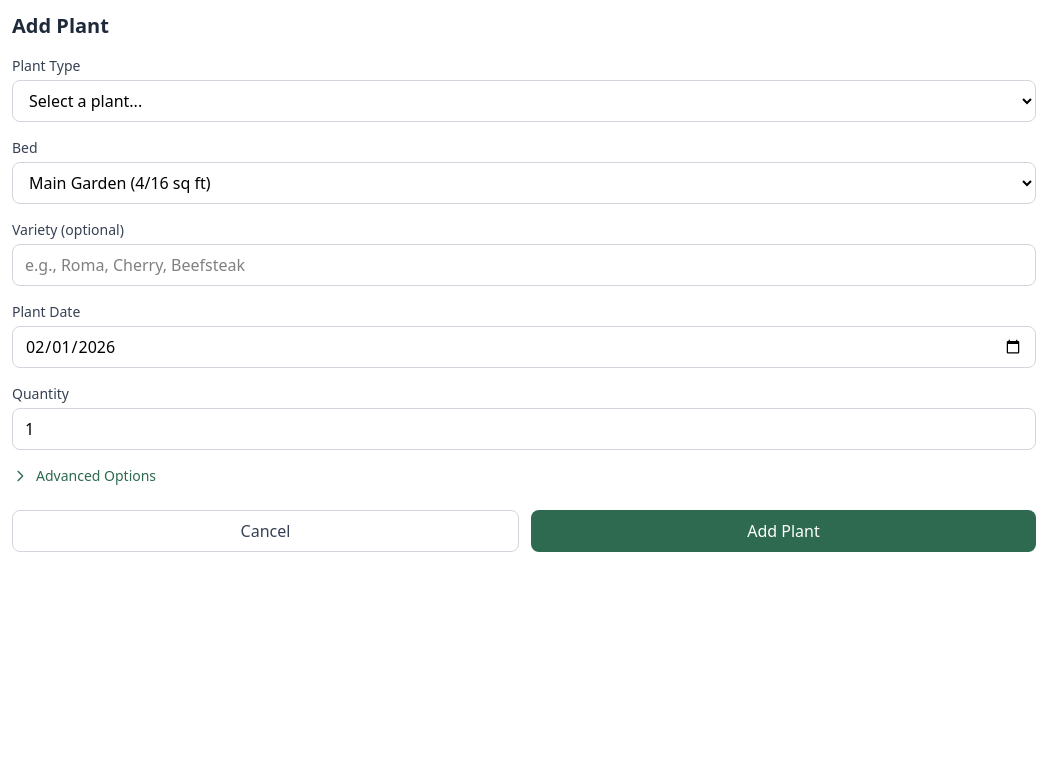
Test case: PlantForm › placeholders and defaults › hides effective value text when override is entered
This screenshot has width=1048, height=757.
Step 1. Select "Tomato" in the dropdown labelled "Plant Type" → point(524, 101), box [12, 80, 1036, 122]
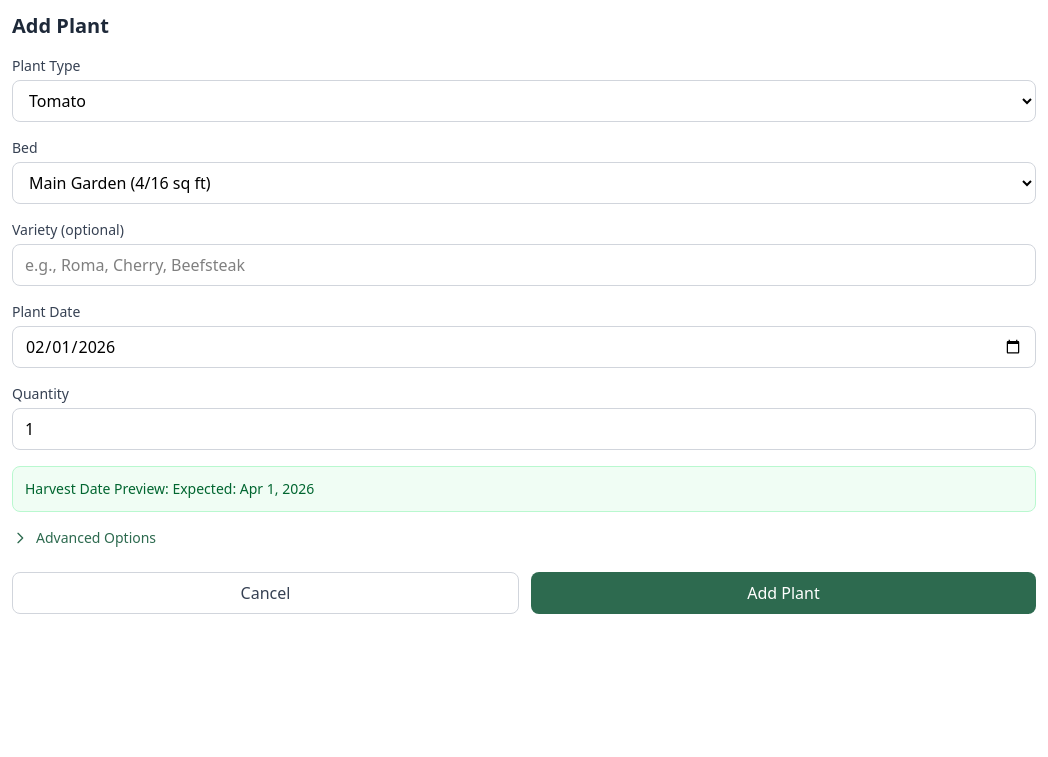
Step 2. Click the button "Advanced Options" → point(84, 538), box [12, 528, 156, 548]
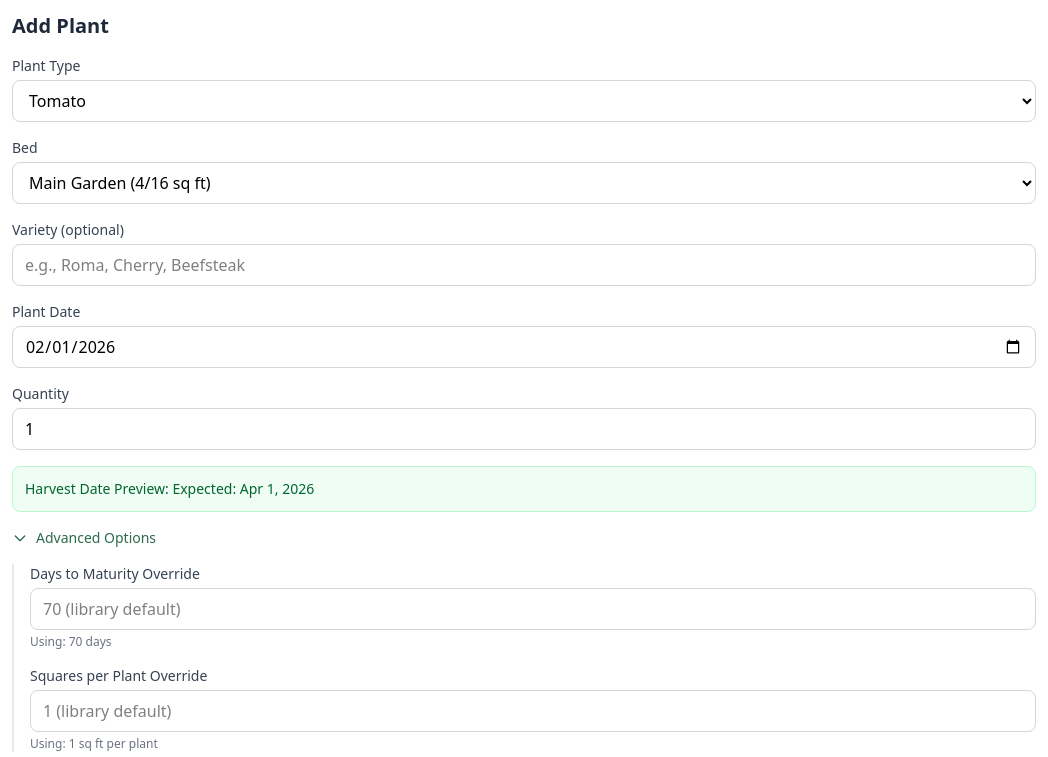
Step 3. Type "50" into the number field labelled "Days to Maturity Override" → point(533, 609), box [30, 588, 1036, 630]
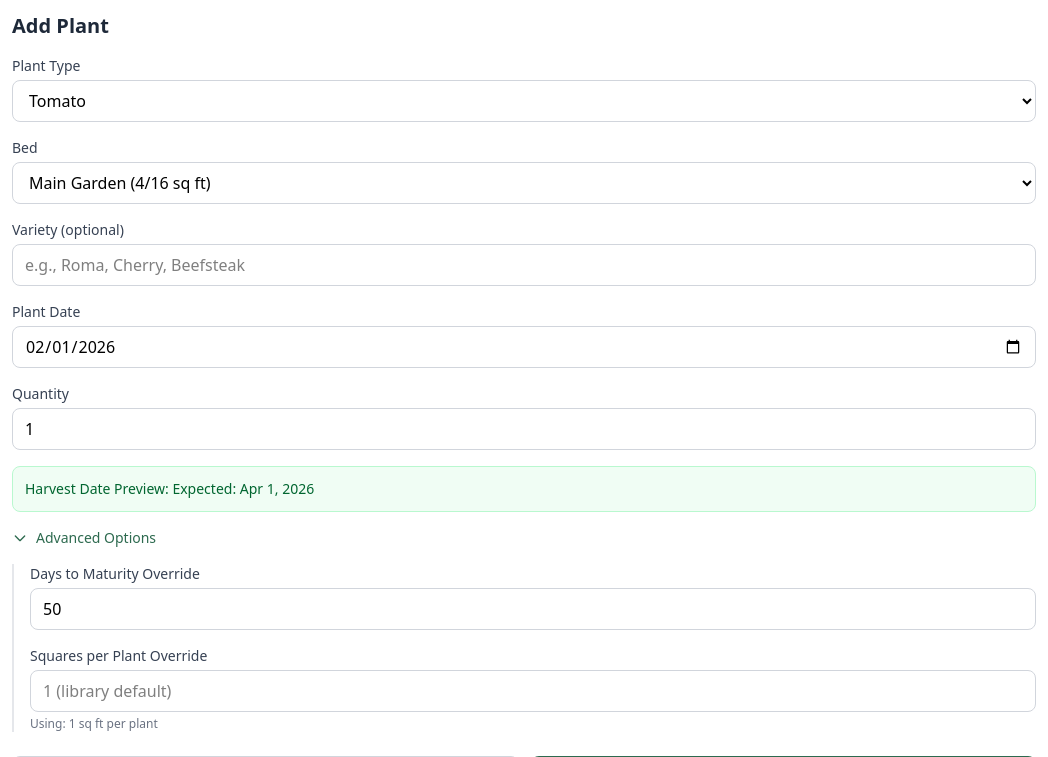
expect the text "Using: 70 days" is gone: met
